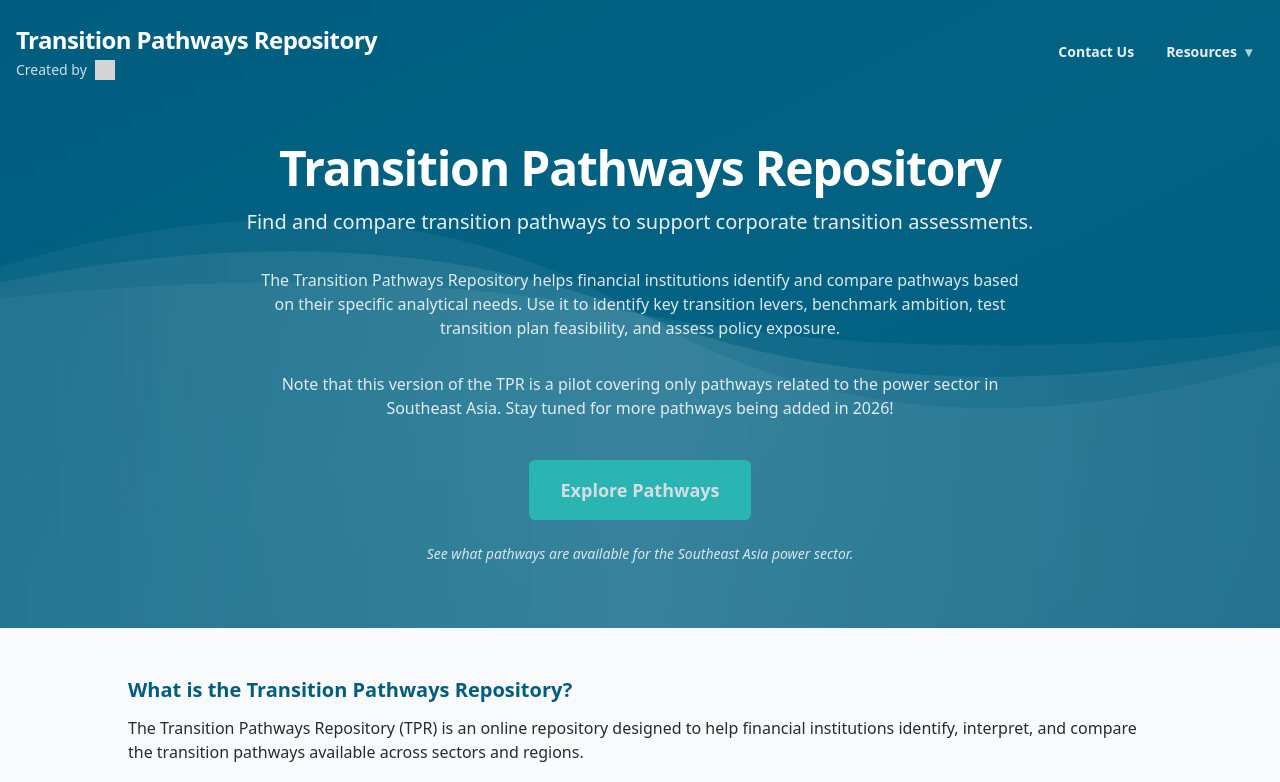
it: LandingPage navigation › uses the shared header nav resources menu
Expected: the link "Contact Us" is shown, [1058,42,1134,61]
What coordinates should you click on to do the following:
click the button "Resources ▾"
I would click on:
 (1209, 52)
Its box is [1154,34,1264,70].
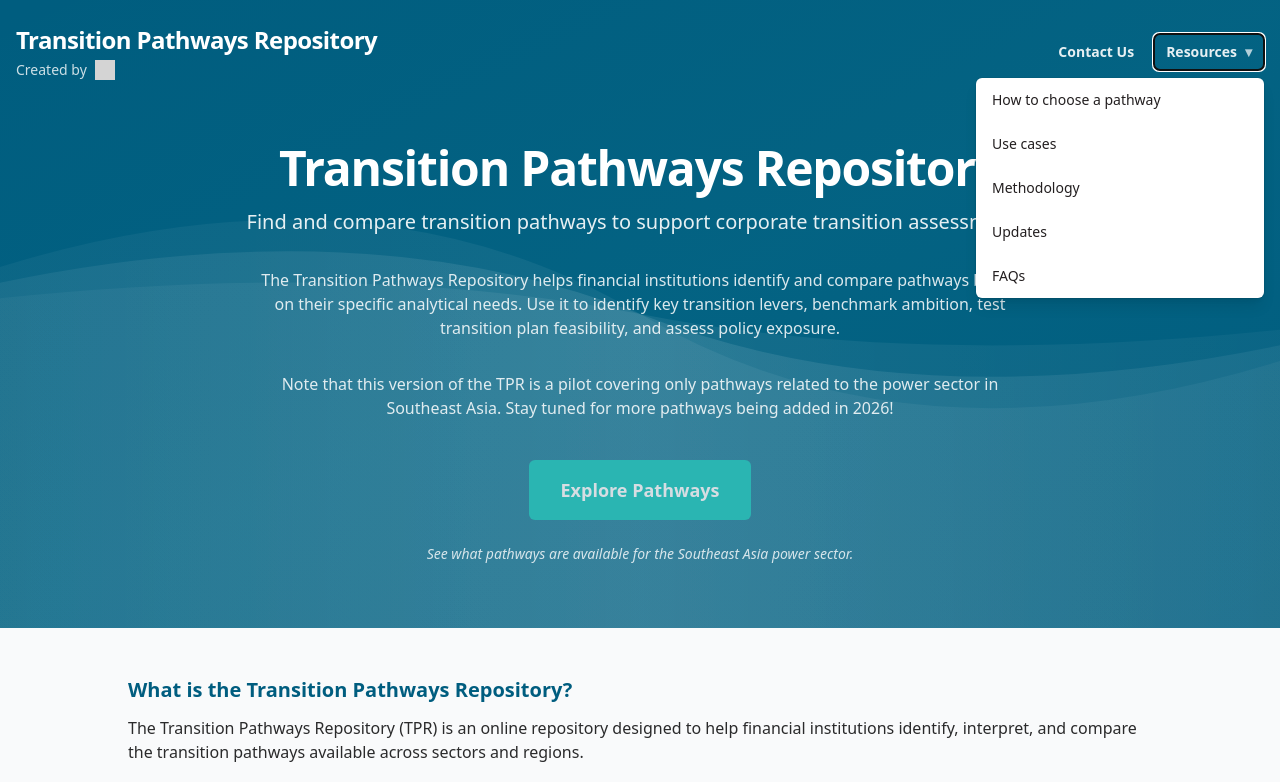
Result: the link "How to choose a pathway" is shown at [992,90,1161,109]
Result: the link "Use cases" is shown at [992,134,1056,153]
Result: the link "Methodology" is shown at [992,178,1080,197]
